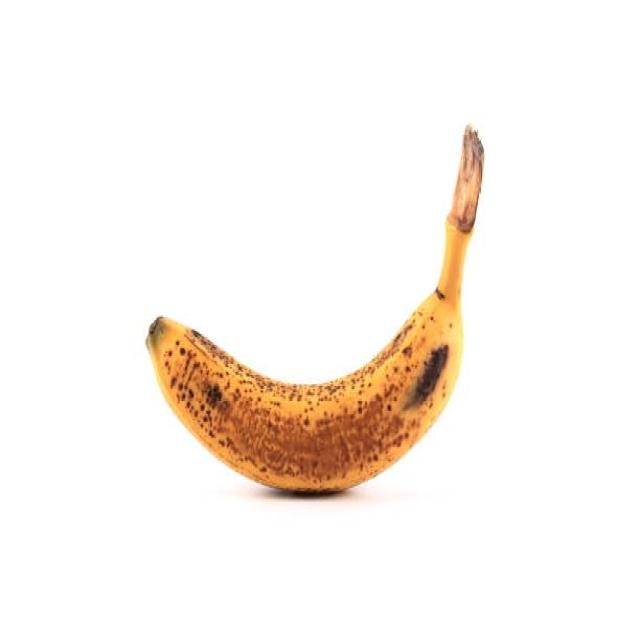overripe: (144, 211, 473, 502)
